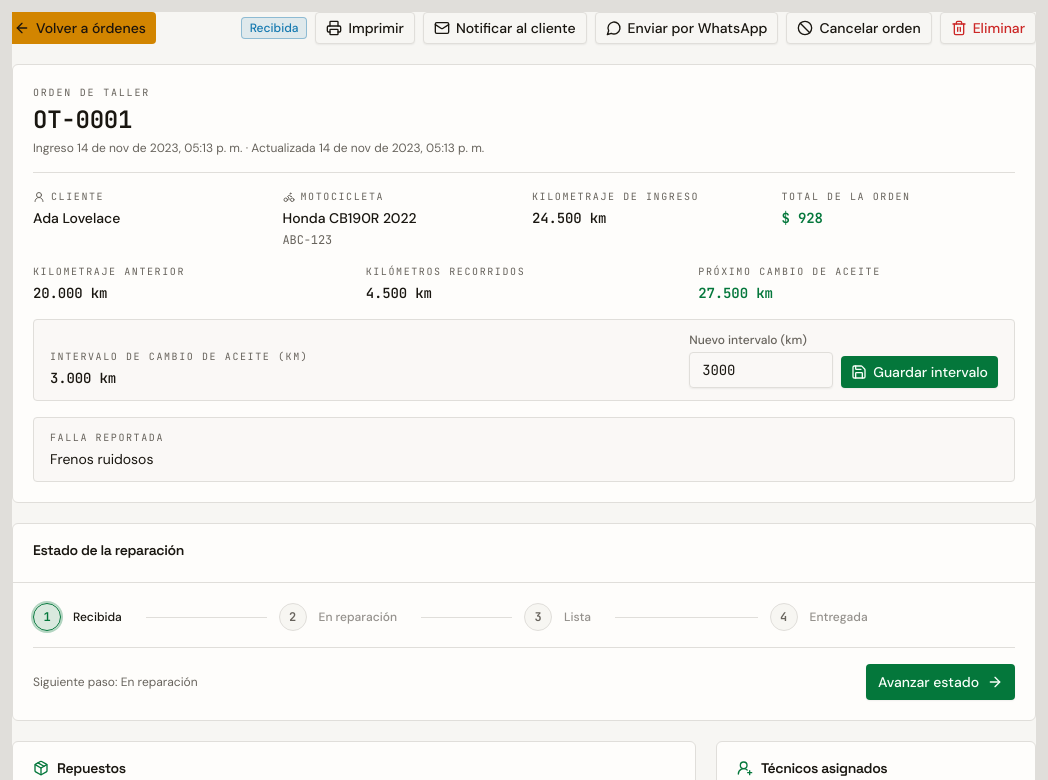
Test: OrderDetailPage odometer fields (cover) › rejects a non-integer interval without persisting
Expected: the heading "OT-0001" is shown, [33,104,132,135]
Replace the text in the number field with test id "order_detail.oil_change_interval_input" with "3000.5" at point(761, 370), box [689,352,833,388]
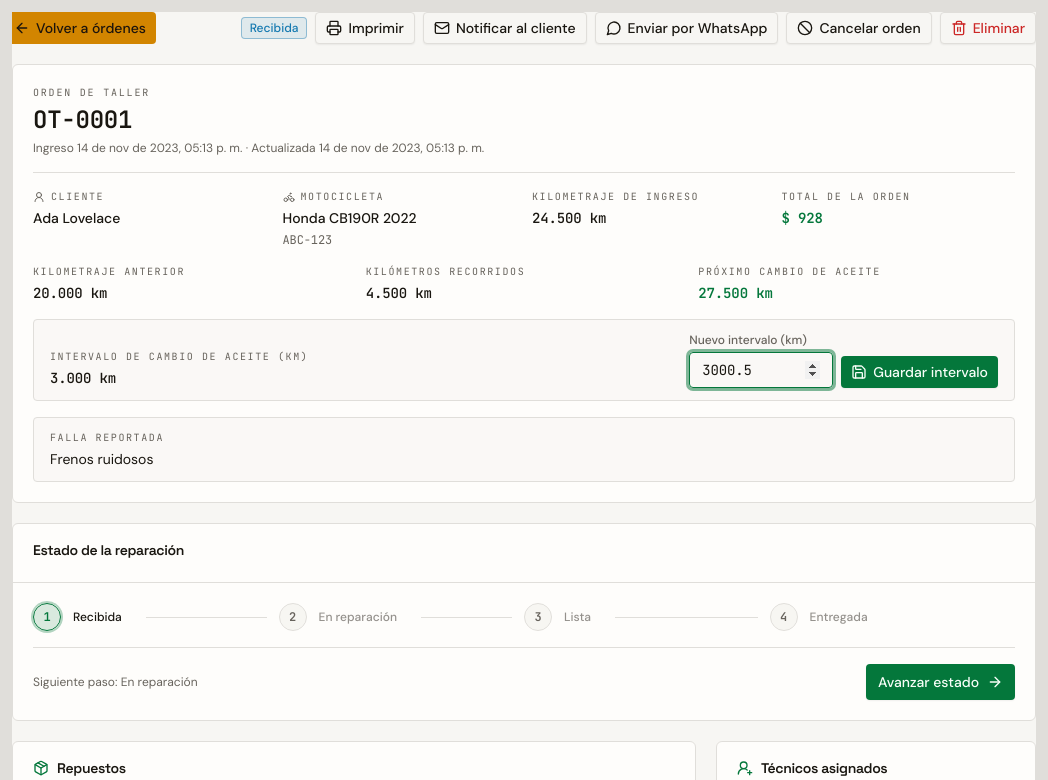
Click the button with test id "order_detail.save_oil_change_interval_button" at point(920, 372), box [841,356,998,388]
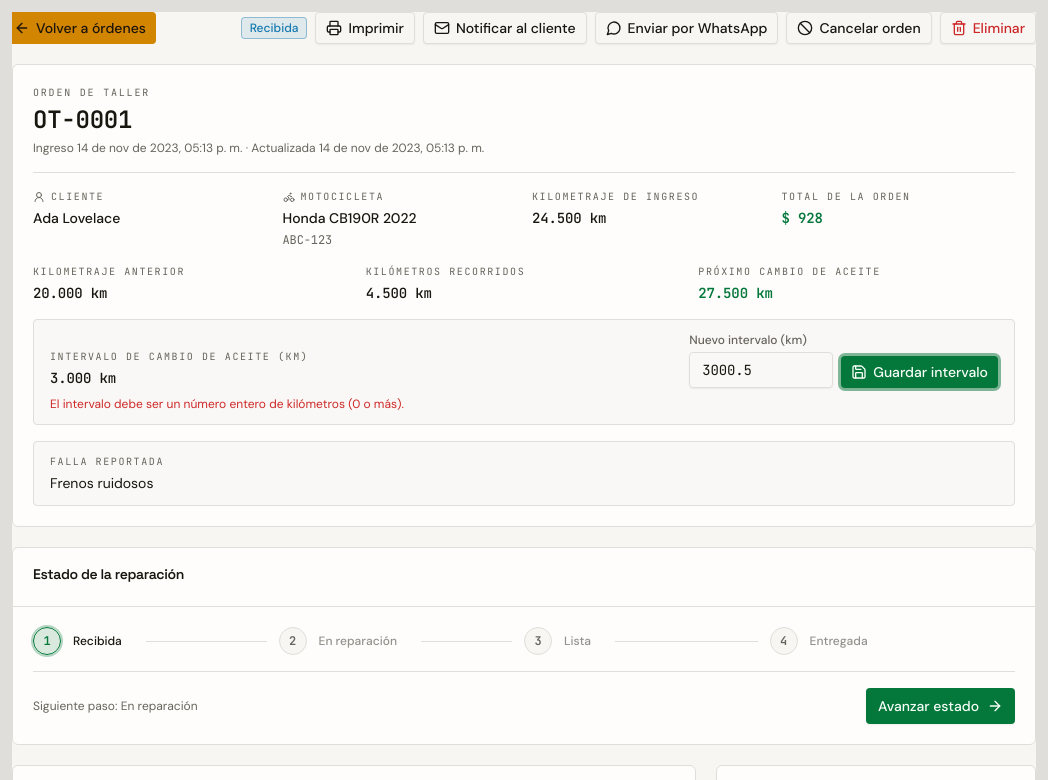
Result: the text with test id "order_detail.oil_change_interval_error" shows "El intervalo debe ser un número entero" at [50,396,404,412]
